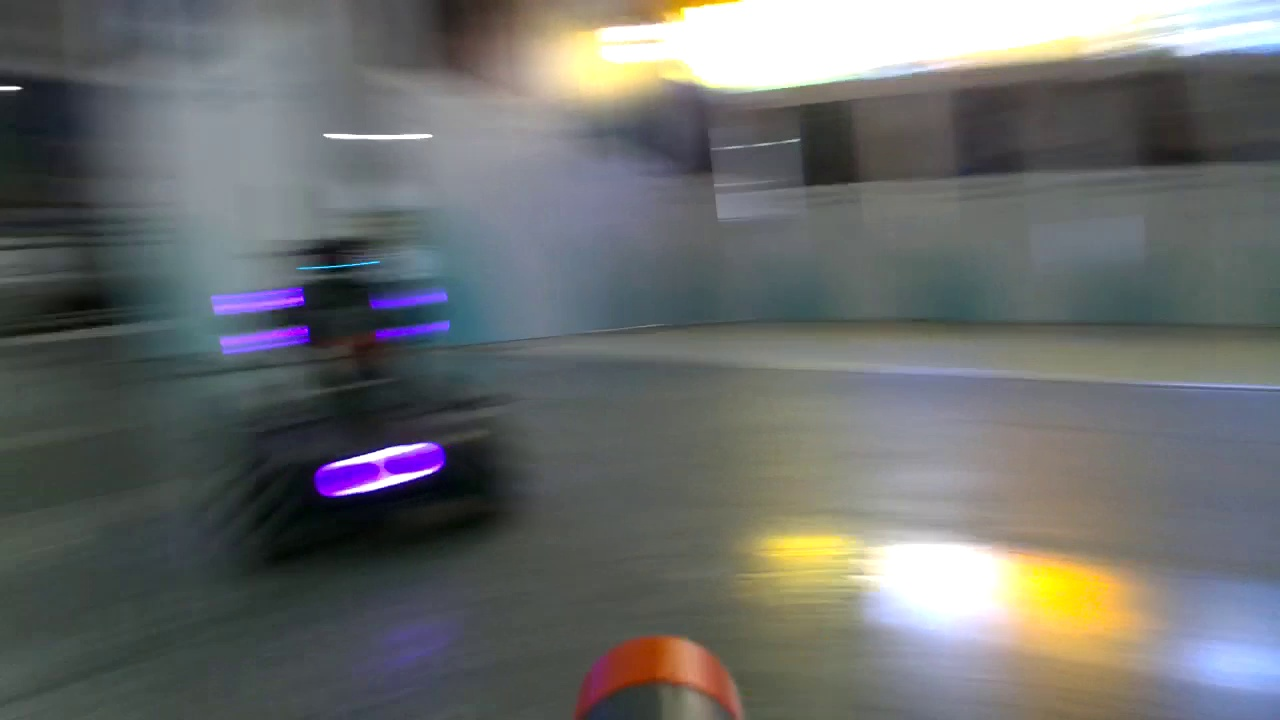robot: (208, 239, 510, 577)
